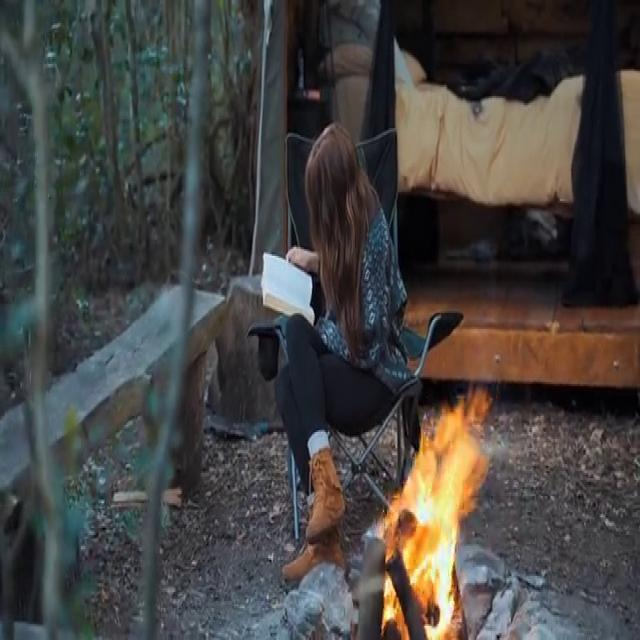Fire: (376, 387, 498, 636)
